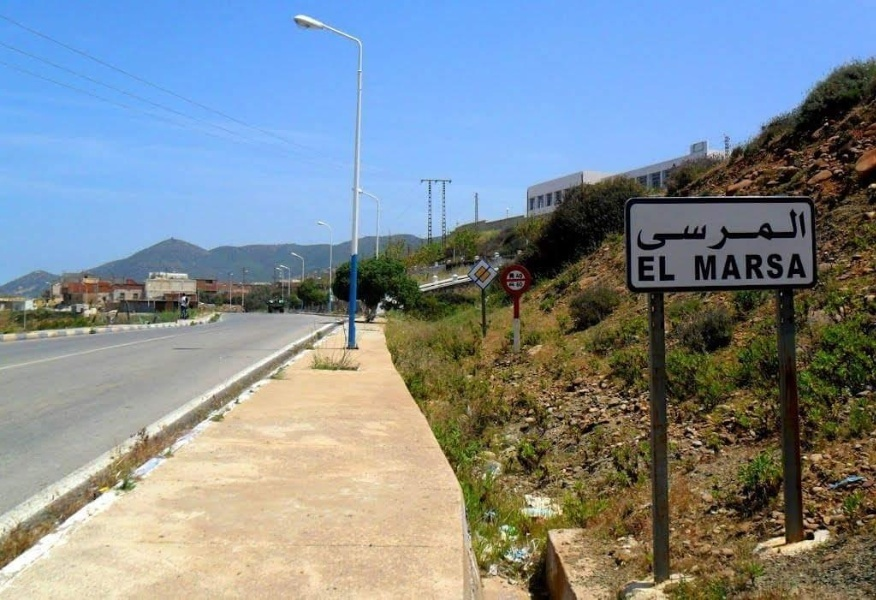text: (641, 208, 656, 253), (657, 208, 672, 253), (673, 208, 688, 253), (689, 208, 704, 253), (705, 208, 720, 253), (721, 208, 736, 253), (737, 208, 752, 253), (753, 208, 768, 253), (769, 208, 784, 253), (785, 208, 800, 253), (641, 254, 656, 283), (657, 254, 672, 283), (705, 253, 720, 281), (721, 253, 736, 281), (737, 253, 752, 281), (753, 253, 768, 281), (769, 253, 784, 281), (785, 253, 800, 281), (801, 208, 809, 253), (694, 253, 704, 281), (801, 253, 808, 281), (637, 208, 640, 253), (515, 273, 528, 280), (515, 281, 528, 287), (638, 254, 640, 283), (673, 254, 675, 283)
